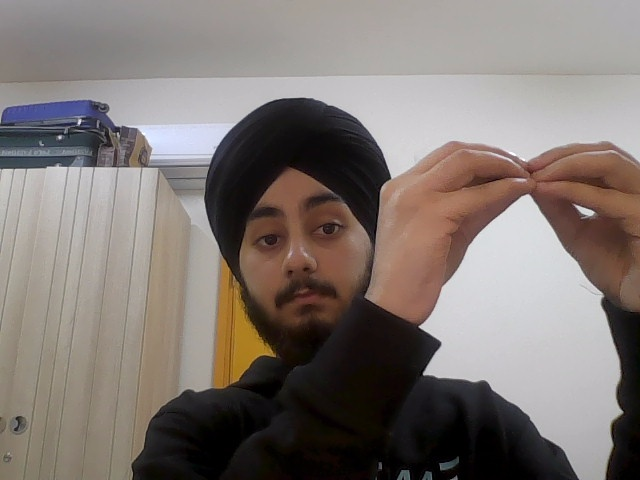More: (365, 122, 640, 323)
